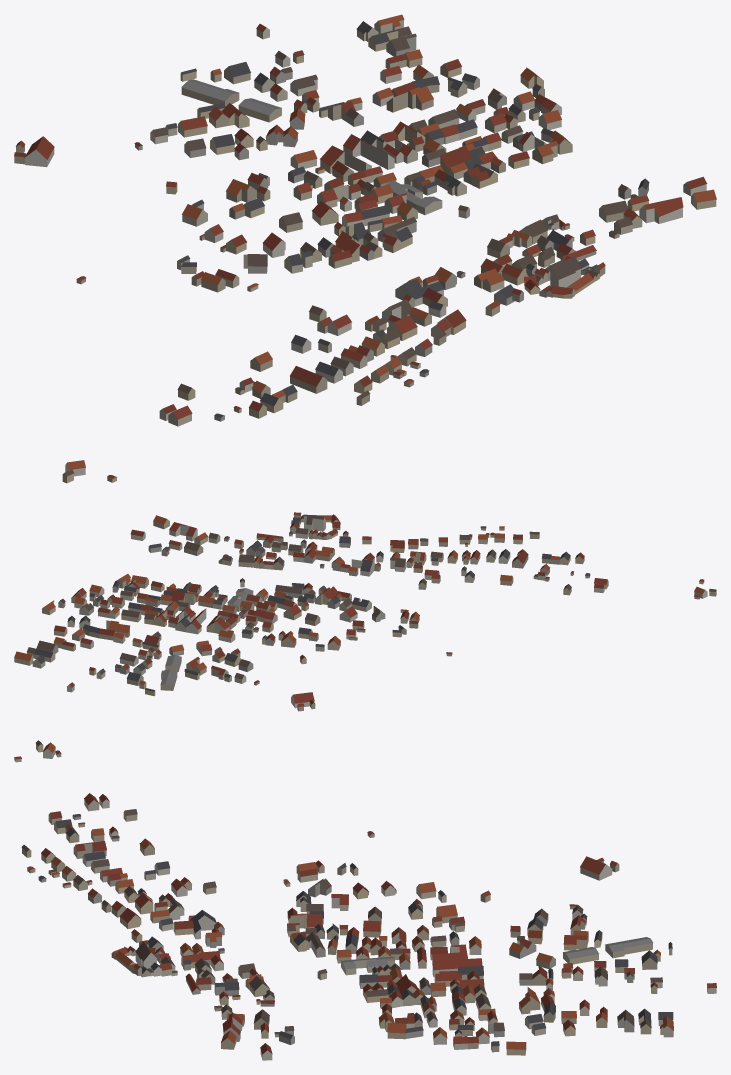
3 views of the same model, one above another, from view 1: azimuth 30°, elevation 25°; view 2: azimuth 150°, elevation 25°; view 3: azimuth 270°, elevation 25° (orthographic). The views are drawn at different scales.
Visible parts, largest first — view 1: buildings; view 2: buildings; view 3: buildings.
Part boxes in pixels (box(x1,y1,x2,y2)): buildings: box(14, 14, 716, 483); buildings: box(14, 512, 716, 711); buildings: box(14, 740, 716, 1060).
Bounding box in the file's own units: 658 × 29.46 × 620.
